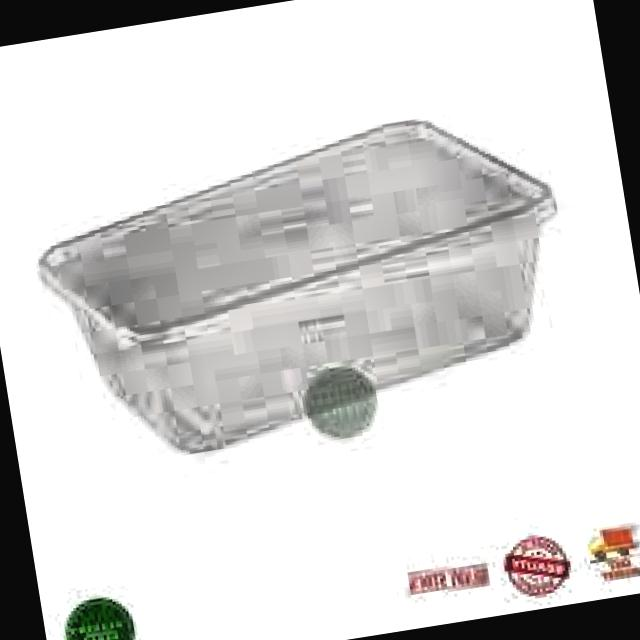plastic container: (39, 120, 556, 452)
